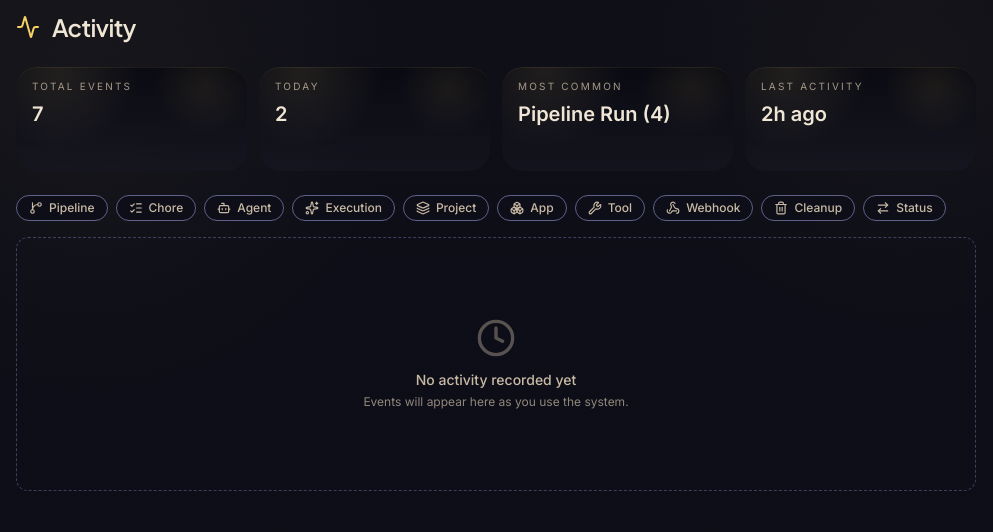
it: ActivityPage › keeps the empty state meaningful when filtered results are empty
Click the button "Project".
click(446, 208)  # box [403, 195, 489, 221]
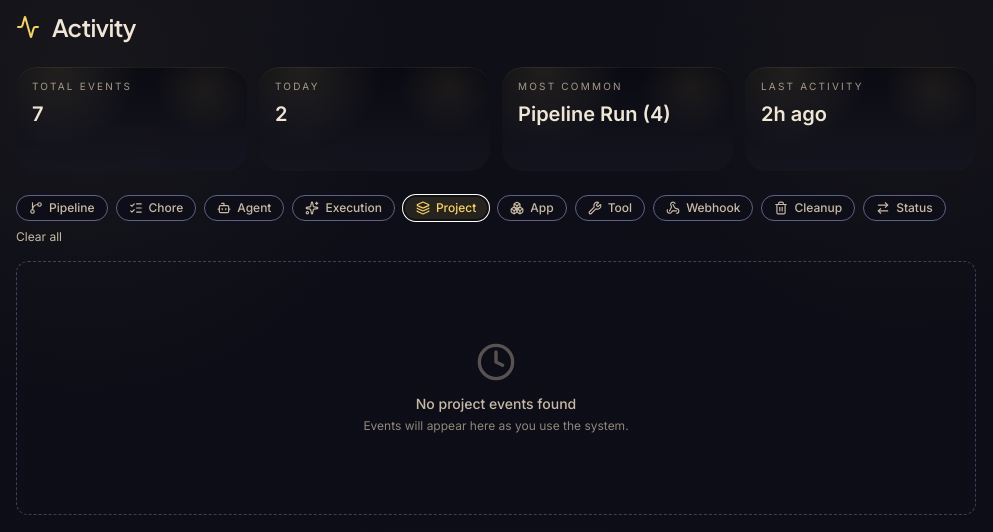
expect the text "No project events found" is shown: met, box [416, 394, 576, 414]
